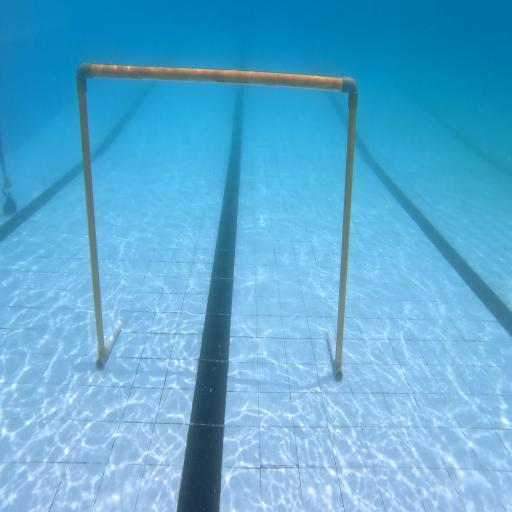gate: (76, 62, 358, 382)
